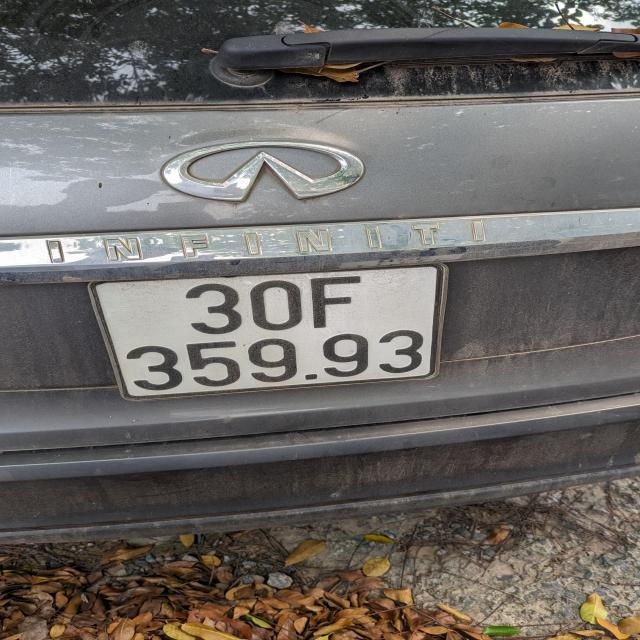License: (88, 263, 447, 402)
